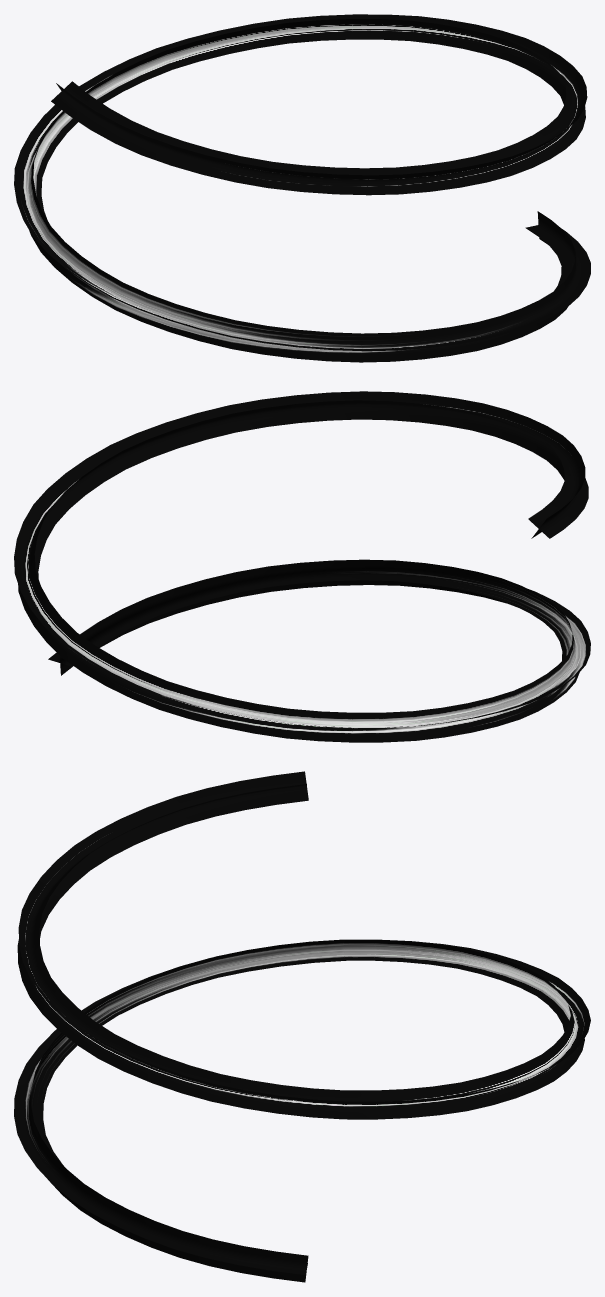
The model's file is 0485_xuanzhuan_M.glb.
3 views of the same model, one above another, from view 1: azimuth 30°, elevation 25°; view 2: azimuth 150°, elevation 25°; view 3: azimuth 270°, elevation 25° (orthographic).
Bounding box in the file's own units: 2.2 × 1.15 × 2.19.
1 material, 1 textured.
